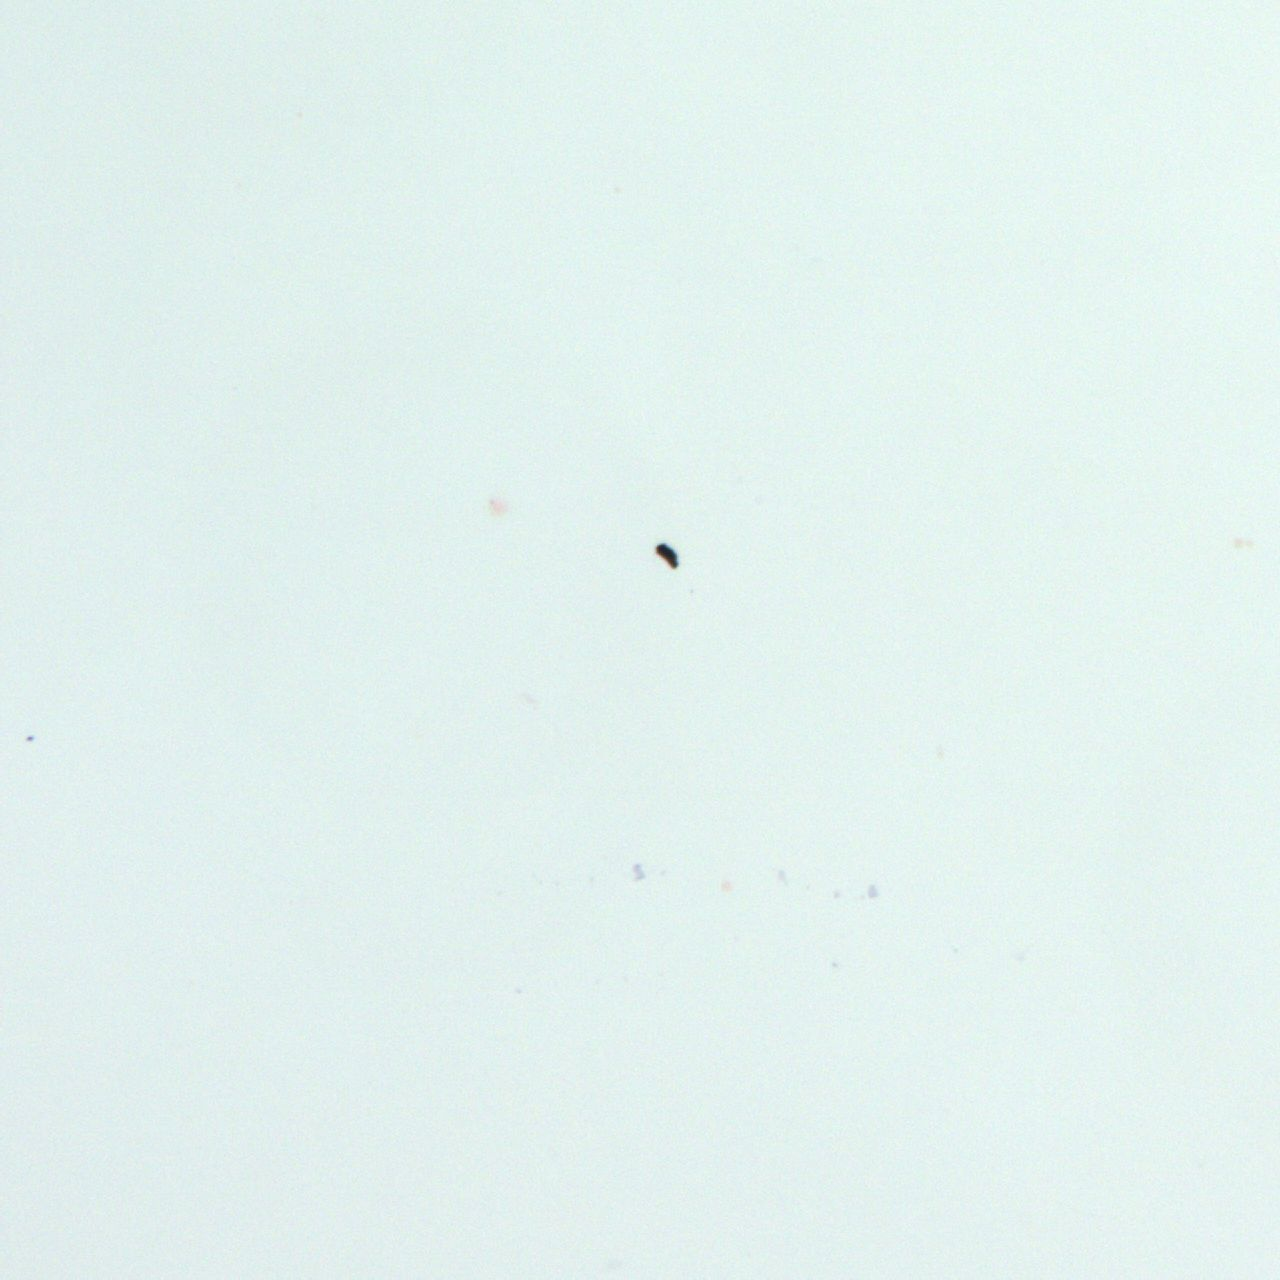dust: (656, 542, 680, 572)
